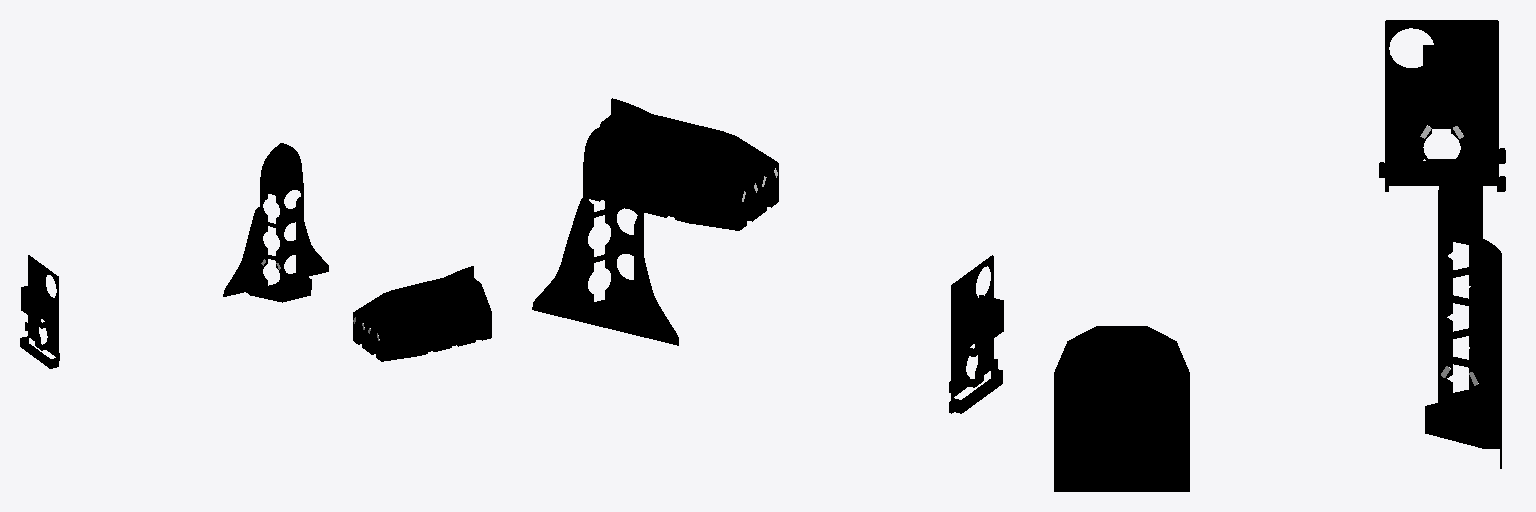
URDF robot description (field):
<?xml version="1.0"?>
<robot name="field" xmlns:xacro="http://www.ros.org/wiki/xacro">

	<material name="black">
		<color rgba="0 0 0 1"/>
	</material>

	<material name="white">
		<color rgba="1 1 1 1"/>
	</material>

	<material name="red">
		<color rgba="1 0 0 1"/>
	</material>

	<material name="green">
		<color rgba="0 1 0 1"/>
	</material>

	<material name="blue">
		<color rgba="0 0 1 1"/>
	</material>

	<material name="magenta">
		<color rgba="1 0 1 1"/>
	</material>

	<material name="cyan">
		<color rgba="0 1 1 1"/>
	</material>

	<material name="yellow">
		<color rgba="1 1 0 1"/>
	</material>

	<link name="props_base"/>

	<link name="cargo_ship">
		<visual>
			<origin xyz="0 0.71 0.1" rpy="0 0 3.1415926536" />
			<geometry>
				<mesh filename="package://field_description/meshes/2019_props/Cargo_Ship.STL" scale="20 20 20"/>
			</geometry>
			<material name="black"/>
		</visual>
	</link>

	<joint name="cargo_ship_to_base" type="fixed">
		<parent link="props_base"/>
		<child link="cargo_ship"/>
		<origin xyz="6.2 0 0" rpy="0 0 0"/>
	</joint>

	<link name="cargo_tape_1">
		<visual>
			<origin xyz="0 0 0" rpy="-1.0472 0 0" />
			<geometry>
				<box size="0.005 0.15 0.06"/>
			</geometry>
			<material name="white"/>
		</visual>
	</link>

	<joint name="tape_1_to_ship" type="fixed">
		<parent link="cargo_ship"/>
		<child link="cargo_tape_1"/>
		<origin xyz="-2.45 -0.12 0.6" rpy="0 0 0"/>
	</joint>

	<link name="cargo_tape_2">
		<visual>
			<origin xyz="0 0 0" rpy="1.0472 0 0" />
			<geometry>
				<box size="0.005 0.15 0.06"/>
			</geometry>
			<material name="white"/>
		</visual>
	</link>

	<joint name="tape_2_to_ship" type="fixed">
		<parent link="cargo_ship"/>
		<child link="cargo_tape_2"/>
		<origin xyz="-2.45 -0.46 0.6" rpy="0 0 0"/>
	</joint>

	<link name="cargo_tape_3">
		<visual>
			<origin xyz="0 0 0" rpy="1.0472 0 0" />
			<geometry>
				<box size="0.005 0.15 0.06"/>
			</geometry>
			<material name="white"/>
		</visual>
	</link>

	<joint name="tape_3_to_ship" type="fixed">
		<parent link="cargo_ship"/>
		<child link="cargo_tape_3"/>
		<origin xyz="-2.45 0.12 0.6" rpy="0 0 0"/>
	</joint>

	<link name="cargo_tape_4">
		<visual>
			<origin xyz="0 0 0" rpy="-1.0472 0 0" />
			<geometry>
				<box size="0.005 0.15 0.06"/>
			</geometry>
			<material name="white"/>
		</visual>
	</link>

	<joint name="tape_4_to_ship" type="fixed">
		<parent link="cargo_ship"/>
		<child link="cargo_tape_4"/>
		<origin xyz="-2.45 0.46 0.6" rpy="0 0 0"/>
	</joint>

	<link name="loading_station">
		<visual>
			<origin xyz="-0.3 -0.7 -0.1" rpy="1.5707963268 0 1.5707963268" />
			<geometry>
				<mesh filename="package://field_description/meshes/2019_props/Loading_Station.STL" scale="20 20 20"/>
			</geometry>
			<material name="black"/>
		</visual>
	</link>

	<joint name="loading_station_to_base" type="fixed">
		<parent link="props_base"/>
		<child link="loading_station"/>
		<origin xyz="-1.8 3.4 0" rpy="0 0 0"/>
	</joint>

	<link name="station_tape_1">
		<visual>
			<origin xyz="0 0 0" rpy="-1.0472 0 0" />
			<geometry>
				<box size="0.005 0.15 0.06"/>
			</geometry>
			<material name="white"/>
		</visual>
	</link>

	<joint name="tape_1_to_station" type="fixed">
		<parent link="loading_station"/>
		<child link="station_tape_1"/>
		<origin xyz="0.12 0.14 0.6" rpy="0 0 0"/>
	</joint>

	<link name="station_tape_2">
		<visual>
			<origin xyz="0 0 0" rpy="1.0472 0 0" />
			<geometry>
				<box size="0.005 0.15 0.06"/>
			</geometry>
			<material name="white"/>
		</visual>
	</link>

	<joint name="tape_2_to_station" type="fixed">
		<parent link="loading_station"/>
		<child link="station_tape_2"/>
		<origin xyz="0.12 -0.2 0.6" rpy="0 0 0"/>
	</joint>

	<link name="rocket">
		<visual>
			<origin xyz="1.2 0 -0.1" rpy="0 0 3.1415926536" />
			<geometry>
				<mesh filename="package://field_description/meshes/2019_props/Rocket_Shell.STL" scale="20 20 20"/>
			</geometry>
			<material name="black"/>
		</visual>
	</link>

	<joint name="rocket_to_base" type="fixed">
		<parent link="props_base"/>
		<child link="rocket"/>
		<origin xyz="4 4 0" rpy="0 0 0"/>
	</joint>
	
	<!-- Creating a rotated mediation link to make it easier to place the tapes on the rocket -->

	<link name="rocket_mediation_1"/>

	<joint name="mediation_1_to_rocket" type="fixed">
		<parent link="rocket"/>
		<child link="rocket_mediation_1"/>
		<origin xyz="-0.35 -0.43 0" rpy="0 0 0.52"/>
	</joint>

	<link name="rocket_tape_1">
		<visual>
			<origin xyz="0 0 0" rpy="-1.0472 0 0" />
			<geometry>
				<box size="0.005 0.15 0.06"/>
			</geometry>
			<material name="white"/>
		</visual>
	</link>

	<joint name="tape_1_to_mediation" type="fixed">
		<parent link="rocket_mediation_1"/>
		<child link="rocket_tape_1"/>
		<origin xyz="-0.03 0.17 0.6" rpy="0 0 0"/>
	</joint>

	<link name="rocket_tape_2">
		<visual>
			<origin xyz="0 0 0" rpy="1.0472 0 0" />
			<geometry>
				<box size="0.005 0.15 0.06"/>
			</geometry>
			<material name="white"/>
		</visual>
	</link>

	<joint name="tape_2_to_mediation" type="fixed">
		<parent link="rocket_mediation_1"/>
		<child link="rocket_tape_2"/>
		<origin xyz="-0.03 -0.17 0.6" rpy="0 0 0"/>
	</joint>

	<link name="rocket_mediation_2"/>

	<joint name="mediation_2_to_rocket" type="fixed">
		<parent link="rocket"/>
		<child link="rocket_mediation_2"/>
		<origin xyz="0.35 -0.43 0" rpy="0 0 -0.52"/>
	</joint>

	<link name="rocket_tape_3">
		<visual>
			<origin xyz="0 0 0" rpy="1.0472 0 0" />
			<geometry>
				<box size="0.005 0.15 0.06"/>
			</geometry>
			<material name="white"/>
		</visual>
	</link>

	<joint name="tape_3_to_mediation" type="fixed">
		<parent link="rocket_mediation_2"/>
		<child link="rocket_tape_3"/>
		<origin xyz="0.03 -0.17 0.6" rpy="0 0 0"/>
	</joint>

	<link name="rocket_tape_4">
		<visual>
			<origin xyz="0 0 0" rpy="-1.0472 0 0" />
			<geometry>
				<box size="0.005 0.15 0.06"/>
			</geometry>
			<material name="white"/>
		</visual>
	</link>

	<joint name="tape_4_to_mediation" type="fixed">
		<parent link="rocket_mediation_2"/>
		<child link="rocket_tape_4"/>
		<origin xyz="0.03 0.17 0.6" rpy="0 0 0"/>
	</joint>

  </robot>

--- Facts derived from the render (not from the file) ---
3 views of the same robot in one strip: view 1: azimuth 30°, elevation 25°; view 2: azimuth 150°, elevation 25°; view 3: azimuth 270°, elevation 25° (orthographic).
Robot: field — 16 links, 15 joints (15 fixed); root link props_base; default pose: every joint at zero.
Visible links, largest first — view 1: cargo_ship, rocket, loading_station; view 2: cargo_ship, rocket, loading_station; view 3: cargo_ship, loading_station, rocket.
Boxes of the visible links, x1,y1,x2,y2 form: cargo_ship: (353,266,491,361); rocket: (223,143,328,302); loading_station: (20,255,59,368); cargo_ship: (588,98,778,230); rocket: (532,122,678,345); loading_station: (949,255,1003,413); cargo_ship: (1054,326,1189,491); loading_station: (1379,20,1505,191); rocket: (1425,147,1501,468).
Size in the robot's own frame: 8.3 by 4.75 by 3.17 metres.
3 mesh visuals loaded from 3 distinct referenced files (3 binary STL).
